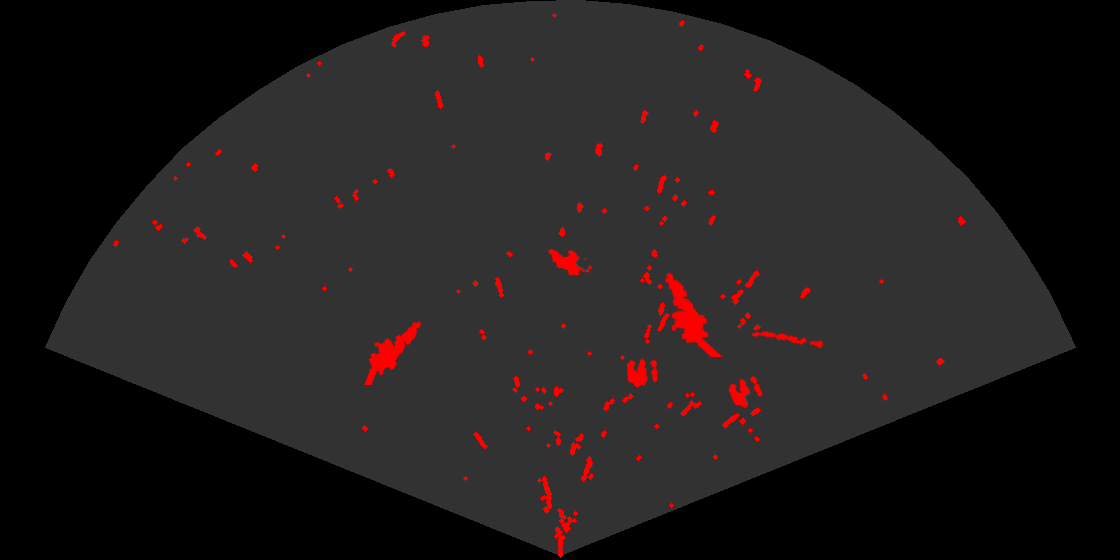AUV: (547, 247, 594, 277)
ball: (727, 374, 764, 409), (625, 357, 659, 389)
chain: (749, 329, 826, 350)
frogman: (663, 271, 725, 357), (363, 320, 423, 385)
